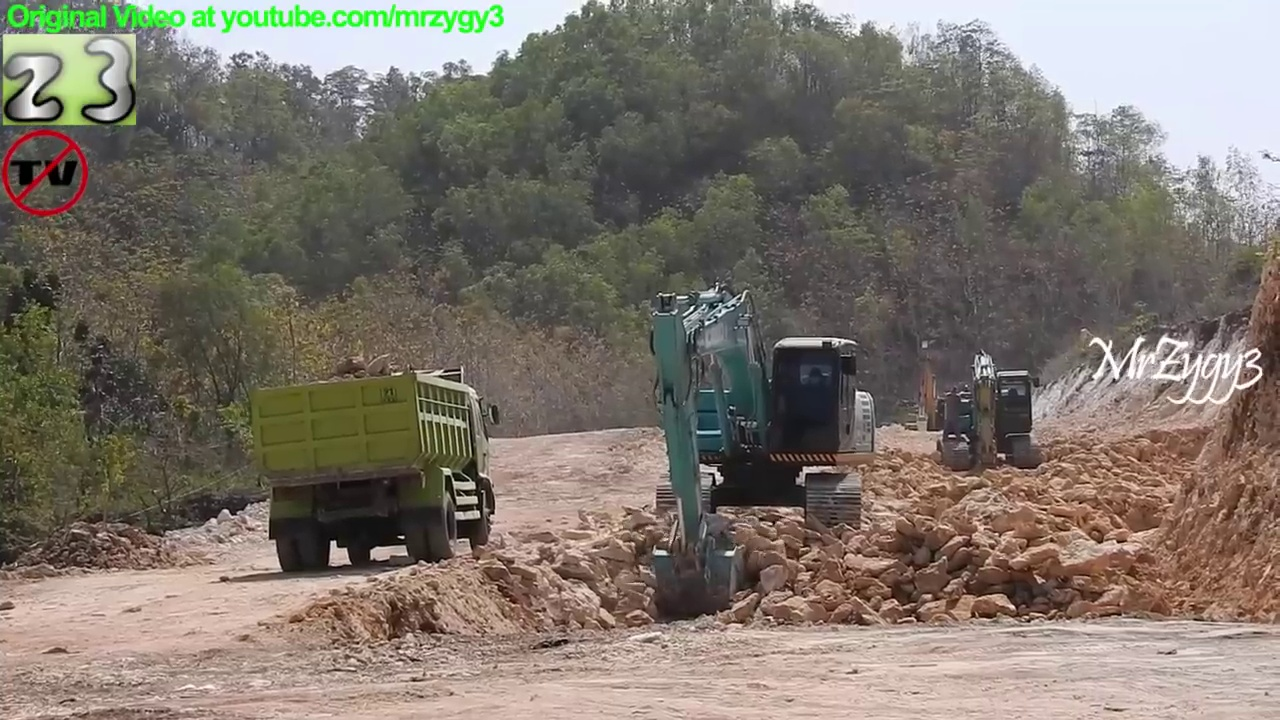excavator: (638, 271, 885, 626), (896, 333, 962, 440)
excavator breaker: (930, 345, 1050, 479)
truck: (244, 361, 509, 581)
